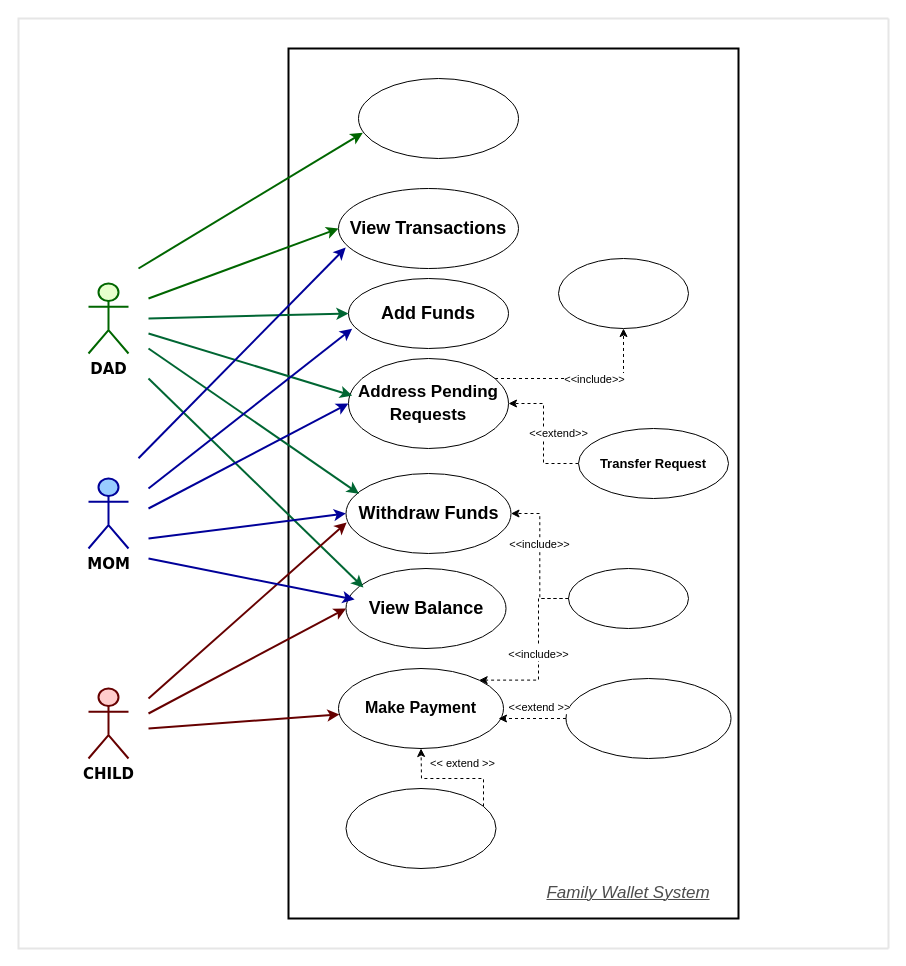
The diagram is 906 pixels wide and 966 high, and some of its shapes have lost their labels. Here are the shapes that lost their labels. From the top down, the centre of each, then its label:
pixel 438 118: Block Profile
pixel 623 293: Update Transaction
pixel 628 598: Check Balance
pixel 648 718: Request to spend more than once
pixel 420 828: Request MOM to overspend
